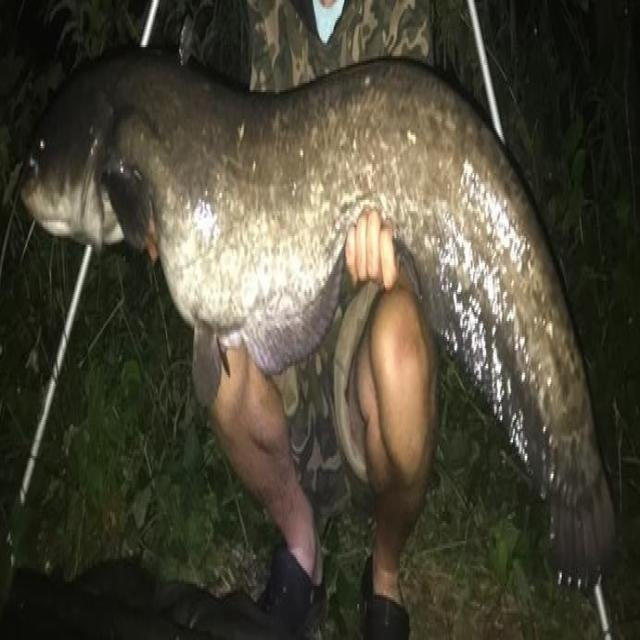Catfish: (6, 15, 627, 614)
